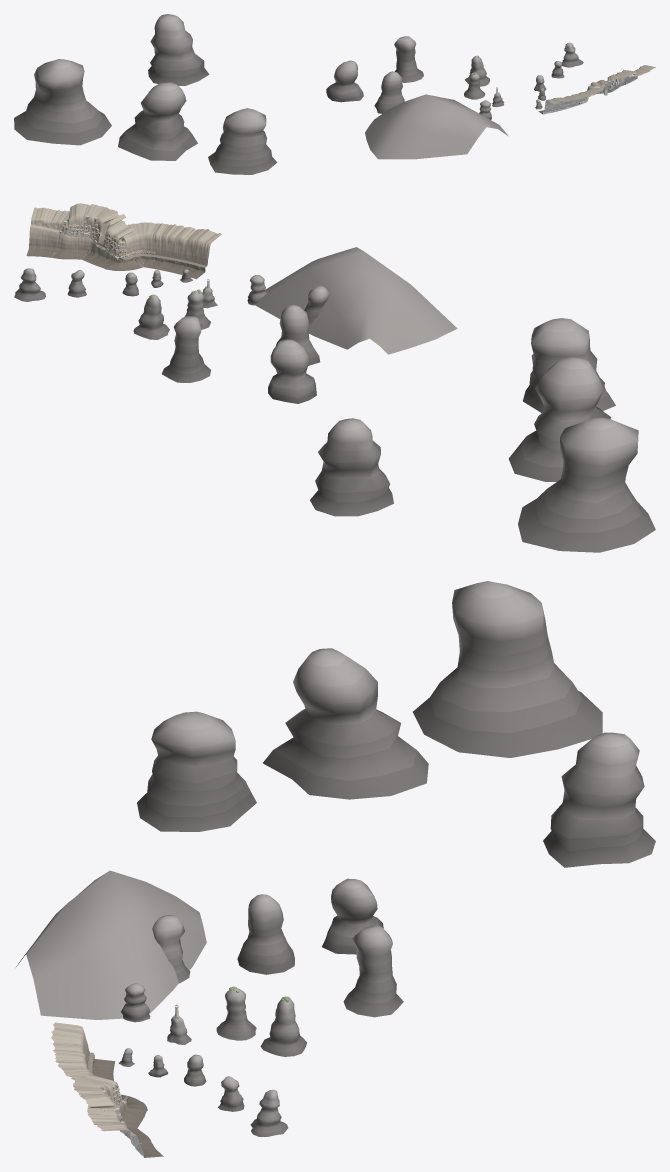
Rendered from level.glb.
The picture shows the model from 3 angles, top to bottom: view 1: azimuth 30°, elevation 25°; view 2: azimuth 150°, elevation 25°; view 3: azimuth 270°, elevation 25°; orthographic projection. The views are drawn at different scales.
Parts seen in each view (by area): view 1: FAR_far, VIS_rock, COL_cam; view 2: FAR_far, VIS_rock, COL_cam; view 3: FAR_far, VIS_rock.
Part boxes in pixels (<box>): FAR_far: <box>14,14,583,174</box>; VIS_rock: <box>538,65,655,114</box>; COL_cam: <box>543,72,645,114</box>; FAR_far: <box>14,247,655,552</box>; VIS_rock: <box>26,203,221,279</box>; COL_cam: <box>52,216,155,266</box>; FAR_far: <box>16,581,655,1136</box>; VIS_rock: <box>51,1022,163,1157</box>.
Size of the model in its own units: 1919 by 241 by 1074.
